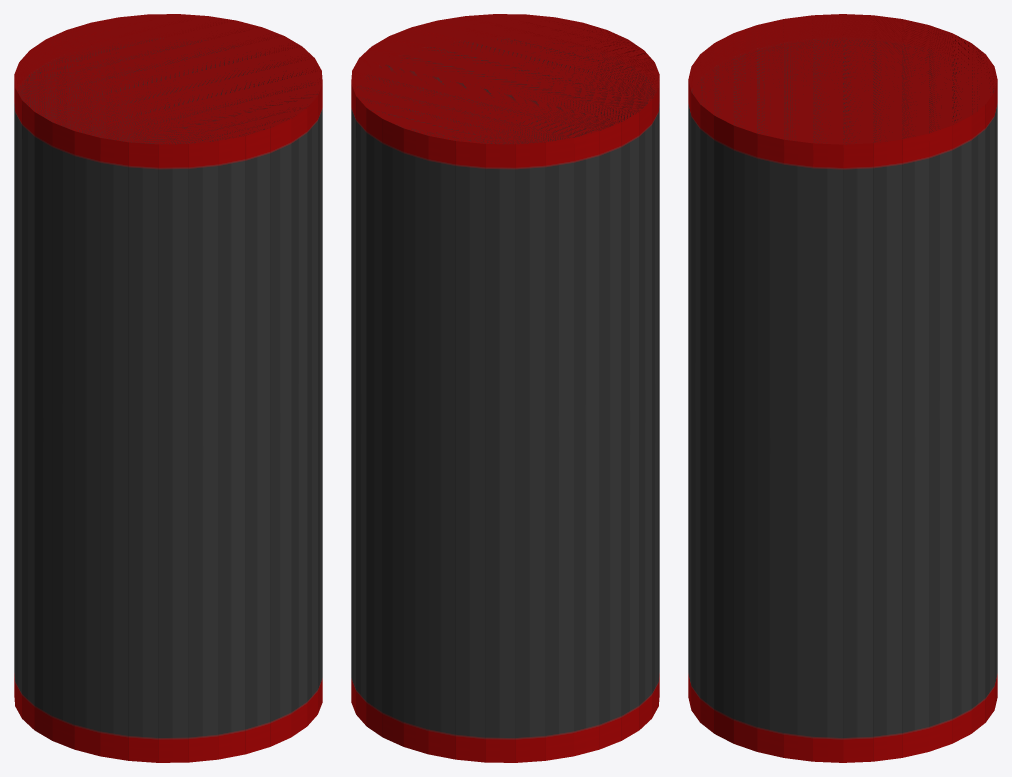
The model's file is blaster.obj.
3 renders of one model, left to right at view 1: azimuth 30°, elevation 25°; view 2: azimuth 150°, elevation 25°; view 3: azimuth 270°, elevation 25°, orthographic.
Visible parts, largest first — view 1: Cylinder; view 2: Cylinder; view 3: Cylinder.
Boxes of the visible parts, x1,y1,x2,y2 form: Cylinder: (14,14,322,762); Cylinder: (351,14,659,762); Cylinder: (688,14,997,762).
Size of the model in its own units: 2 by 4.41 by 2.
